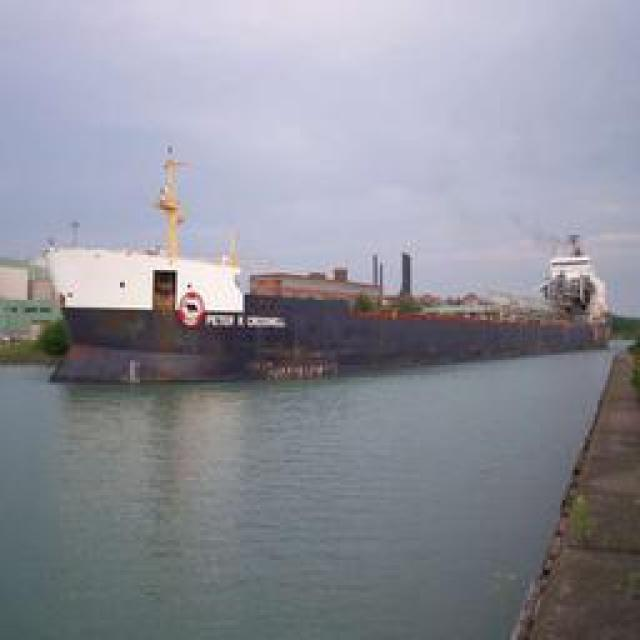CIV_Ship: (38, 234, 282, 382)
